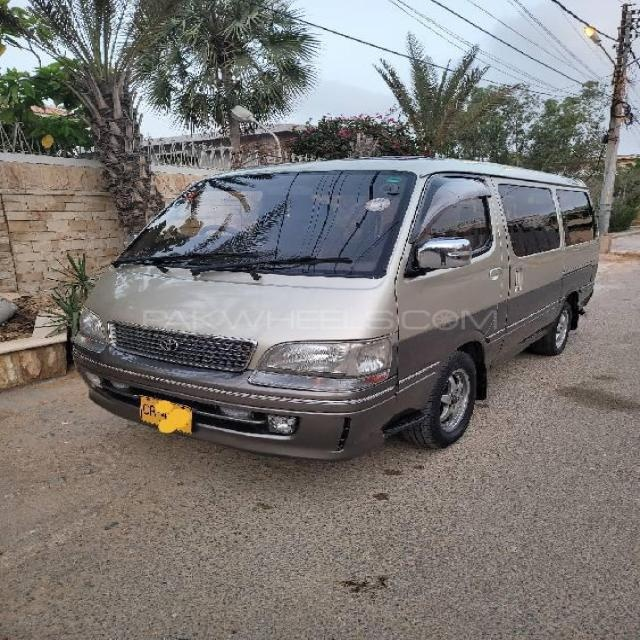Van: (74, 154, 625, 495)
